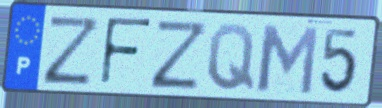5: (316, 27, 363, 96)
F: (97, 15, 155, 89)
M: (255, 21, 322, 97)
Q: (205, 21, 257, 93)
Z: (149, 17, 212, 92), (41, 13, 104, 87)
